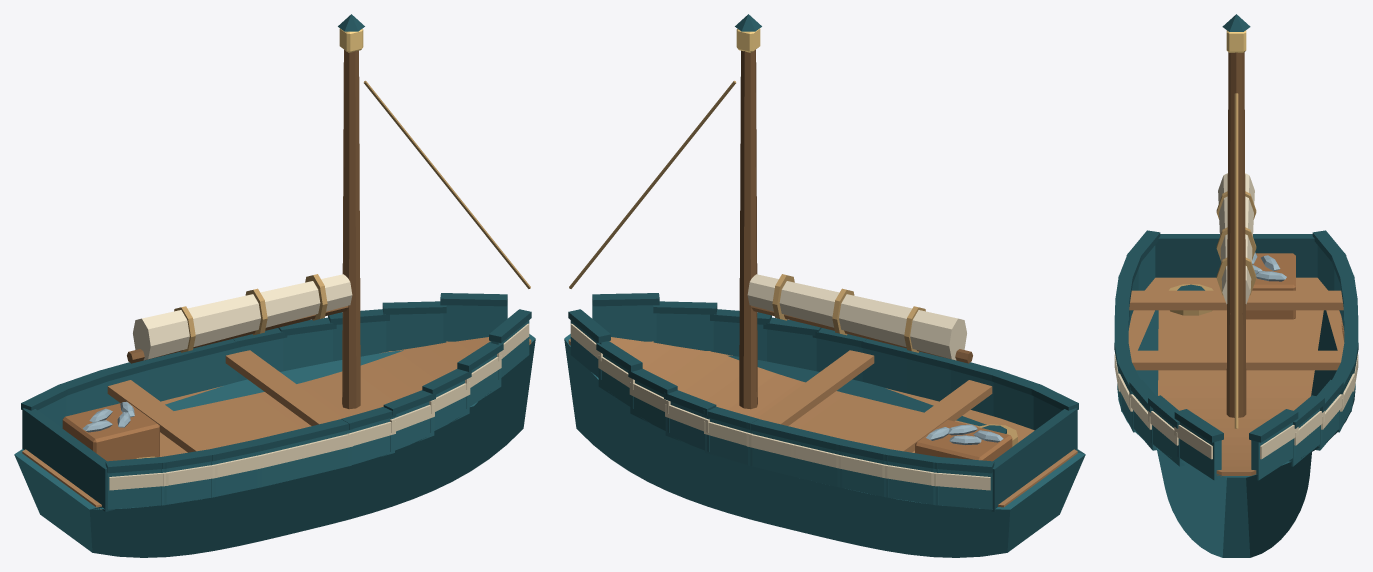
File: fishing_boat.glb
3 renders of one model, left to right at view 1: azimuth 30°, elevation 25°; view 2: azimuth 150°, elevation 25°; view 3: azimuth 270°, elevation 25°, orthographic. The views are drawn at different scales.
Parts seen in each view (by area): view 1: fishing_boat; view 2: fishing_boat; view 3: fishing_boat.
Part boxes in pixels (x1,y1,x2,y2): fishing_boat: (14,14,535,557); fishing_boat: (564,14,1085,557); fishing_boat: (1114,14,1358,557).
Bounding box in the file's own units: 2 × 1.87 × 0.8613.
